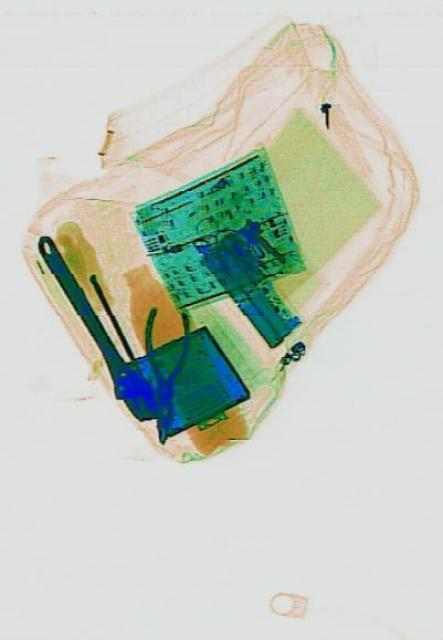Pliers: (138, 305, 189, 445)
Wrench: (24, 222, 159, 430)
